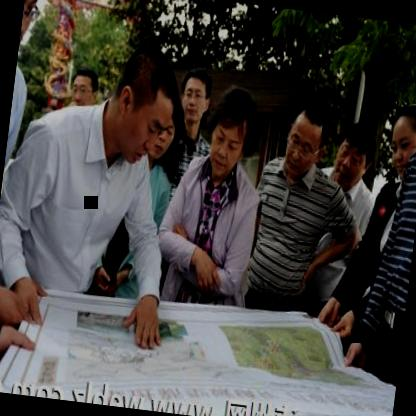head: (107, 41, 182, 164), (198, 86, 258, 184), (277, 85, 333, 181), (330, 116, 378, 191), (174, 60, 217, 134), (143, 102, 185, 168), (384, 102, 416, 178), (15, 0, 48, 69), (66, 61, 104, 110), (409, 33, 416, 128)
